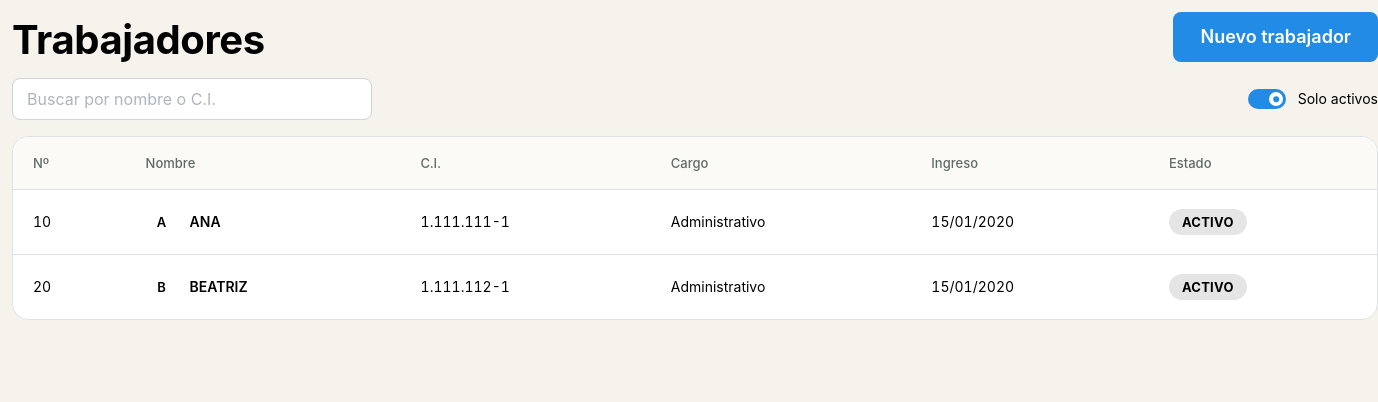
it: TrabajadoresPage › lists active workers in API order and shows inactive ones when the filter is off
Check: the link "ANA" is shown, box [190,211,221,233]
Check: the text "CARLOS" is not shown
Step 1. Click the switch labelled "Solo activos" → click(1313, 99), box [1248,89,1377,109]
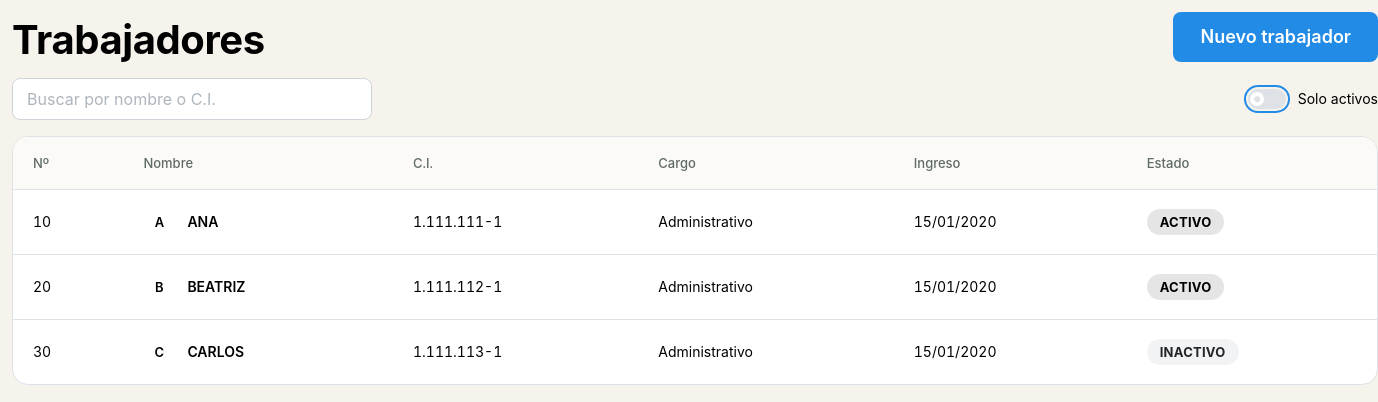
Check: the link "CARLOS" is shown, box [187,341,244,363]
Check: the text "Inactivo" is shown, box [1160,340,1226,364]
